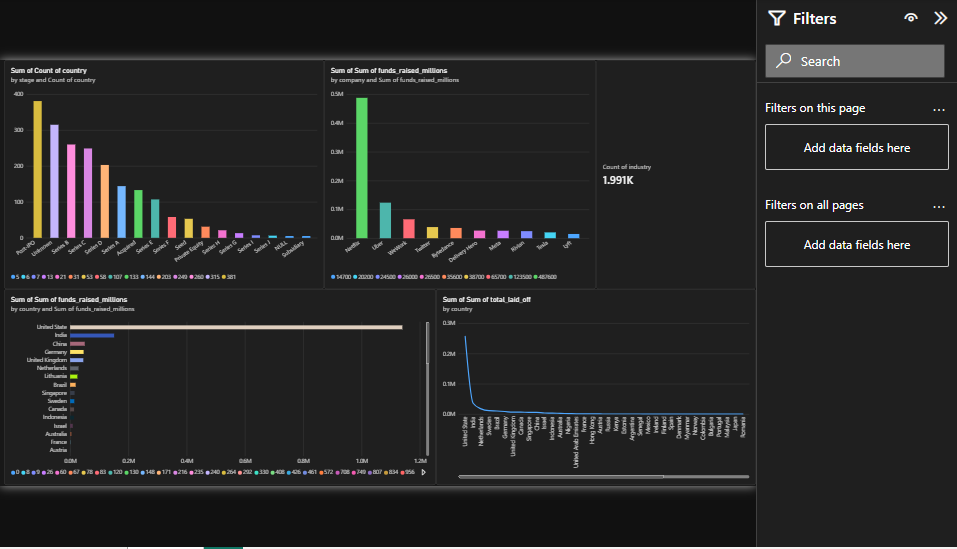

What the dashboard file says about the page in this screenshot:
{"tool":"powerbi","page":{"name":"Page 1","canvas":[1920,1080],"ordinal":0},"visuals":[{"type":"columnChart","fields":{"Category":["stages with the highest countri.stage"],"Series":["stages with the highest countri.Count of country"],"Y":["Sum(stages with the highest countri.Count of country)"]},"box":[10.2,0,812.7,581.6],"z":0},{"type":"barChart","fields":{"Category":["sum of funds raised by country.country"],"Series":["sum of funds raised by country.Sum of funds_raised_millions"],"Y":["Sum(sum of funds raised by country.Sum of funds_raised_millions)"]},"box":[10.2,581.6,1097.1,497.8],"z":1},{"type":"lineChart","fields":{"Category":["sum of total laid off by countr.country"],"Y":["Sum(sum of total laid off by countr.Sum of total_laid_off)"]},"box":[1107.3,581.6,812.7,497.8],"z":2},{"type":"columnChart","fields":{"Category":["top 10 countrie that raised the.company"],"Series":["top 10 countrie that raised the.Sum of funds_raised_millions"],"Y":["Sum(top 10 countrie that raised the.Sum of funds_raised_millions)"]},"box":[822.9,0,690.8,581.6],"z":3},{"type":"cardVisual","fields":{"Data":["CountNonNull(covid19 laid off - Copy.industry)"]},"box":[1513.7,0,406,582],"z":4}]}

Visuals, with their boxes on the page's 1920x1080 design canvas (x1, y1, x2, y2). These are canvas units, not pixel positions in the 957x549 screenshot, which may show the page scaled, cropped or inside an application window:
columnChart - stages with the highest countri.stage x stages with the highest countri.Count of country: <bbox>10, 0, 823, 582</bbox>
barChart - sum of funds raised by country.country x sum of funds raised by country.Sum of funds_raised_millions: <bbox>10, 582, 1107, 1079</bbox>
lineChart - sum of total laid off by countr.country x Sum(sum of total laid off by countr.Sum of total_laid_off): <bbox>1107, 582, 1920, 1079</bbox>
columnChart - top 10 countrie that raised the.company x top 10 countrie that raised the.Sum of funds_raised_millions: <bbox>823, 0, 1514, 582</bbox>
cardVisual - CountNonNull(covid19 laid off - Copy.industry): <bbox>1514, 0, 1920, 582</bbox>
